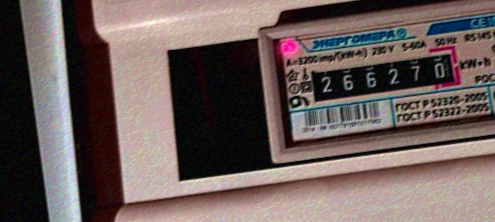0: (431, 61, 446, 79)
2: (317, 74, 333, 94), (386, 66, 399, 86)
6: (340, 72, 354, 92), (363, 70, 377, 90)
7: (409, 63, 422, 82)
screen: (298, 42, 466, 112)
